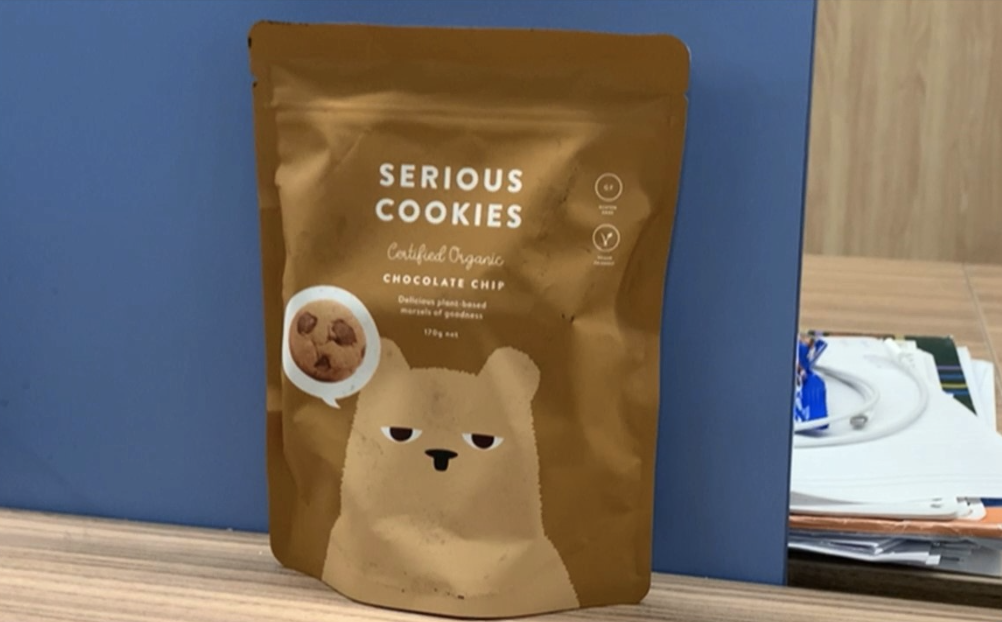cookies_100g-199g: (288, 156, 636, 558)
